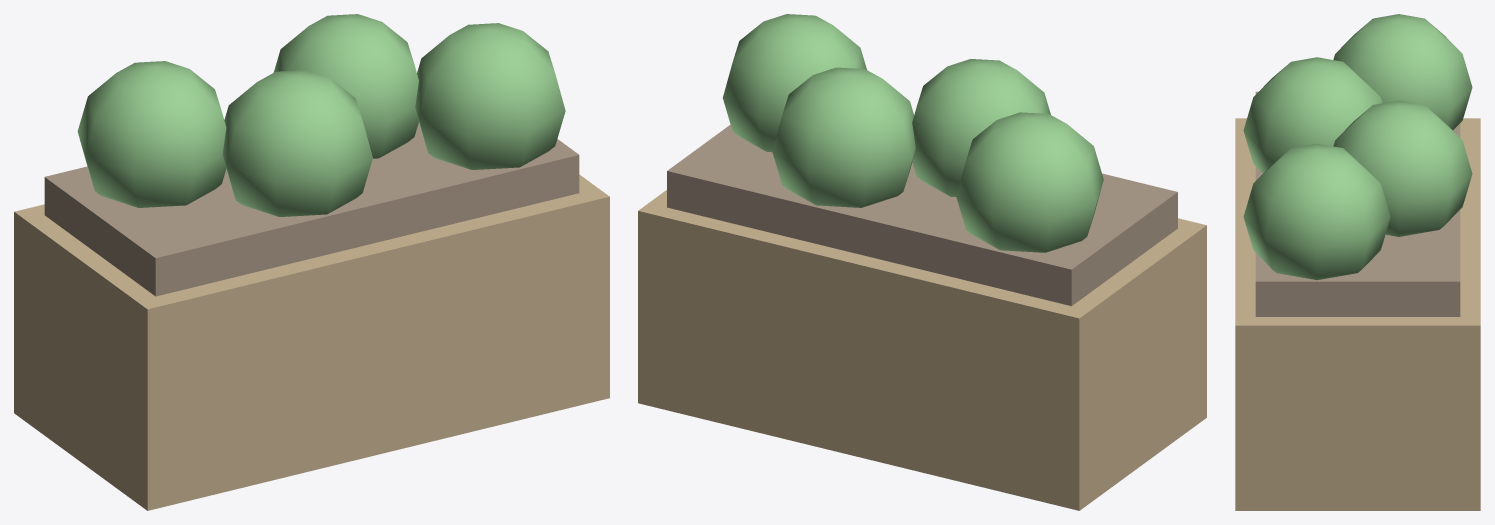
Rendered from Planter.glb.
3 renders of one model, left to right at view 1: azimuth 30°, elevation 25°; view 2: azimuth 150°, elevation 25°; view 3: azimuth 270°, elevation 25°, orthographic. The views are drawn at different scales.
Visible parts, largest first — view 1: model; view 2: model; view 3: model.
Boxes of the visible parts, x1=… form: model: x1=14, y1=14, x2=609, y2=510; model: x1=638, y1=14, x2=1206, y2=510; model: x1=1235, y1=14, x2=1480, y2=510.
Size of the model in its own units: 1.2 by 0.88 by 0.6.
